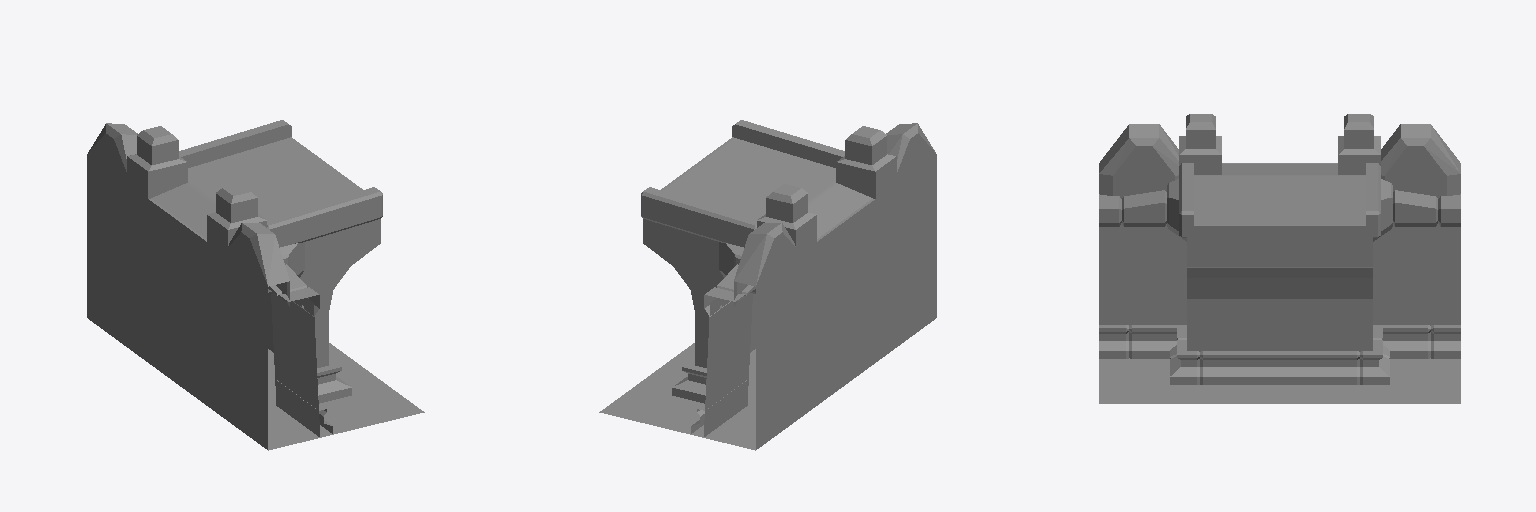
The model's file is Bridge_Half.obj.
The picture shows the model from 3 angles: view 1: azimuth 30°, elevation 25°; view 2: azimuth 150°, elevation 25°; view 3: azimuth 270°, elevation 25°; orthographic projection.
Visible parts, largest first — view 1: Palette; view 2: Palette; view 3: Palette.
Boxes of the visible parts, <box> form: Palette: <box>87,120,424,450</box>; Palette: <box>599,120,936,450</box>; Palette: <box>1099,114,1460,403</box>.
Size of the model in its own units: 6 by 8 by 12.